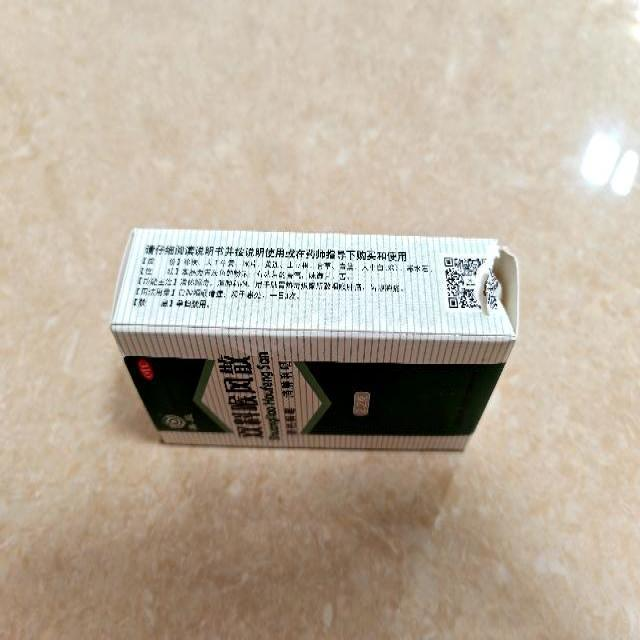box: (108, 228, 522, 452)
